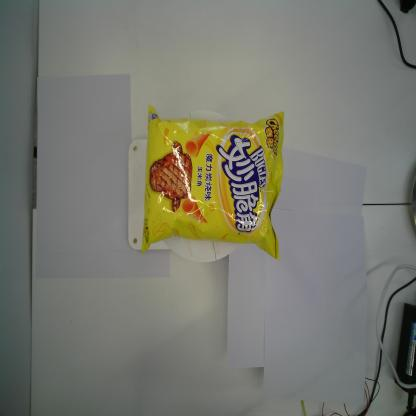Puffed Food: (138, 101, 288, 264)
